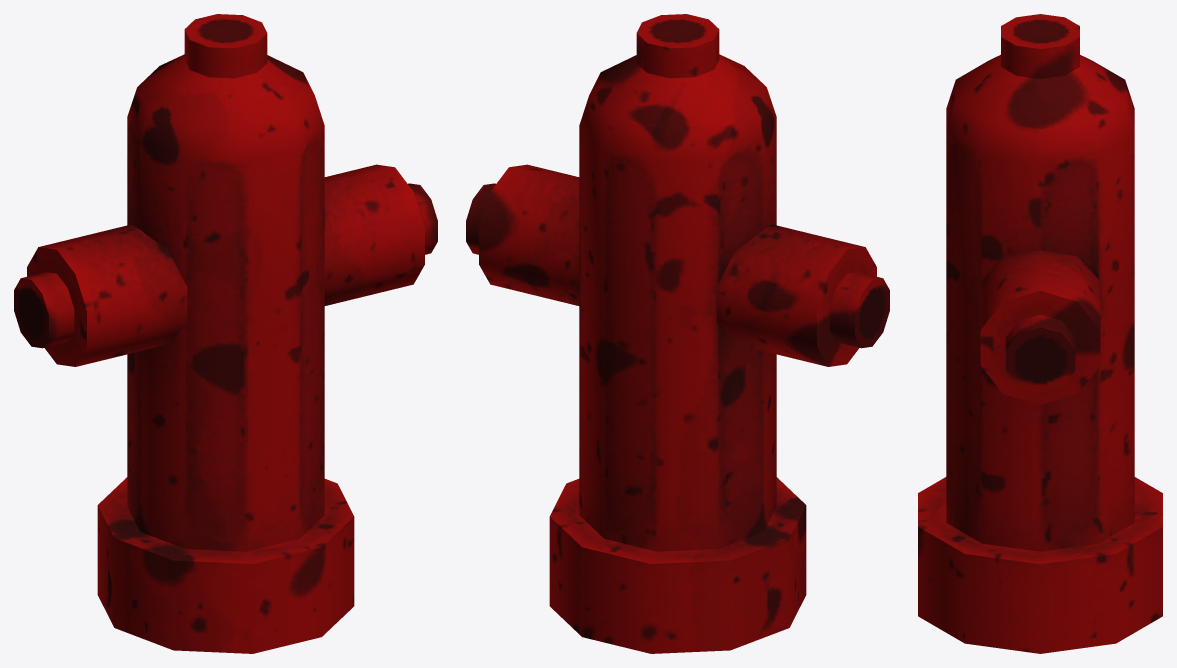
File: Hydrant.gltf
3 renders of one model, left to right at view 1: azimuth 30°, elevation 25°; view 2: azimuth 150°, elevation 25°; view 3: azimuth 270°, elevation 25°, orthographic.
Visible parts, largest first — view 1: Hydrant; view 2: Hydrant; view 3: Hydrant.
Part boxes in pixels (bbox=[...]): Hydrant: bbox=[14, 14, 437, 653]; Hydrant: bbox=[466, 14, 889, 653]; Hydrant: bbox=[918, 14, 1162, 653].
Size of the model in its own units: 1.01 by 1.41 by 0.5493.
1 material, 1 textured.
